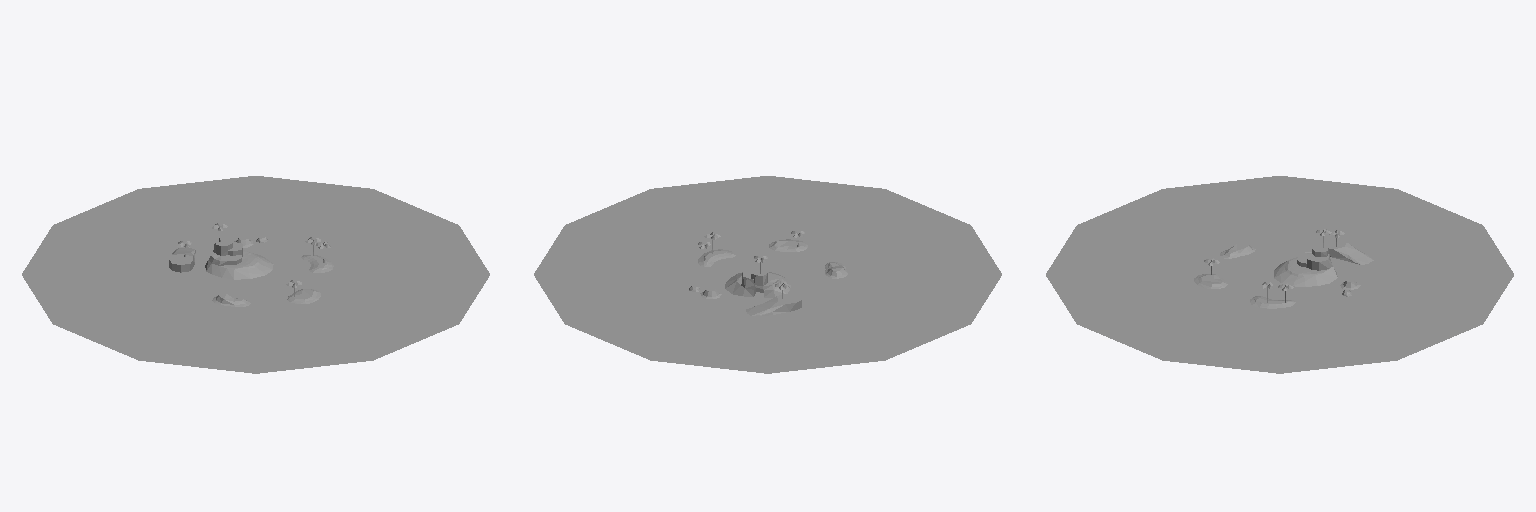
File: SunshineIslesWithWater.obj
The picture shows the model from 3 angles: view 1: azimuth 30°, elevation 25°; view 2: azimuth 150°, elevation 25°; view 3: azimuth 270°, elevation 25°; orthographic projection.
Size of the model in its own units: 2578 by 227 by 2578.